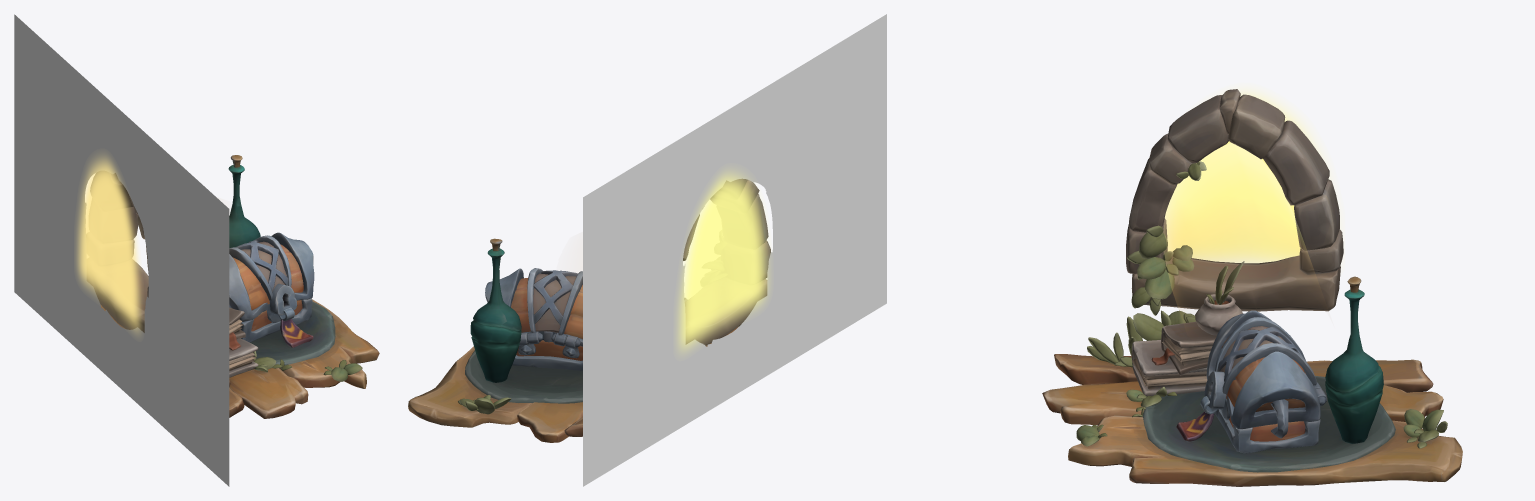
The picture shows the model from 3 angles, left to right: view 1: azimuth 30°, elevation 25°; view 2: azimuth 150°, elevation 25°; view 3: azimuth 270°, elevation 25°; orthographic projection. The views are drawn at different scales.
Visible parts, largest first — view 1: polySurface373, polySurface375, polySurface374, bot1, polySurface324; view 2: polySurface373, polySurface375, polySurface374, bot1, polySurface324; view 3: polySurface375, polySurface374, polySurface320, polySurface324, bot1.
Part boxes in pixels (<box>): polySurface373: <box>14,14,229,486</box>; polySurface375: <box>87,155,379,418</box>; polySurface374: <box>76,155,141,334</box>; bot1: <box>228,165,260,248</box>; polySurface324: <box>253,351,362,381</box>; polySurface373: <box>583,14,886,486</box>; polySurface375: <box>408,178,770,442</box>; polySurface374: <box>676,170,769,353</box>; bot1: <box>470,248,521,382</box>; polySurface324: <box>458,325,740,414</box>; polySurface375: <box>1042,89,1462,486</box>; polySurface374: <box>1165,90,1329,262</box>; polySurface320: <box>1163,143,1311,307</box>; polySurface324: <box>1076,161,1447,448</box>; bot1: <box>1325,289,1383,443</box>.
Size of the model in its own units: 2.23 by 2.41 by 3.98.
Materials: 7 (6 with a texture image).
